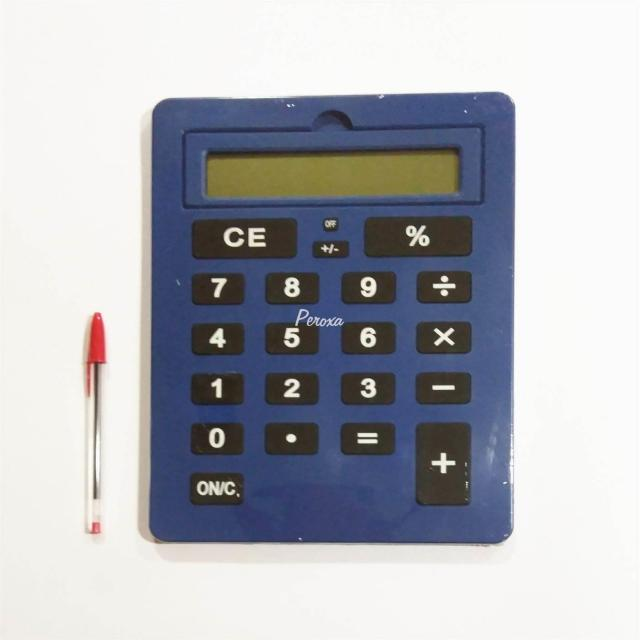Calculator: (105, 74, 640, 608)
